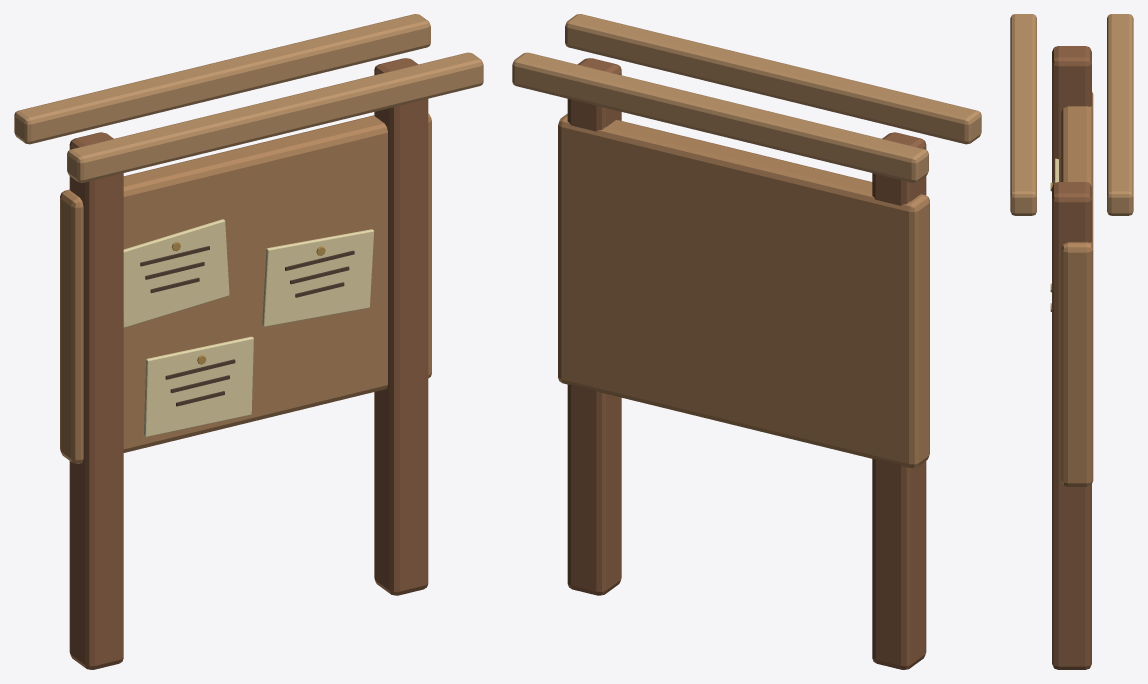
File: village_notice_board.glb
The picture shows the model from 3 angles, left to right: view 1: azimuth 30°, elevation 25°; view 2: azimuth 150°, elevation 25°; view 3: azimuth 270°, elevation 25°; orthographic projection. The views are drawn at different scales.
Parts seen in each view (by area): view 1: village_notice_board; view 2: village_notice_board; view 3: village_notice_board.
Part boxes in pixels (bbox=[...]): village_notice_board: bbox=[14, 14, 483, 669]; village_notice_board: bbox=[512, 14, 981, 669]; village_notice_board: bbox=[1010, 14, 1133, 669].
Size of the model in its own units: 1.6 by 2.03 by 0.46.
